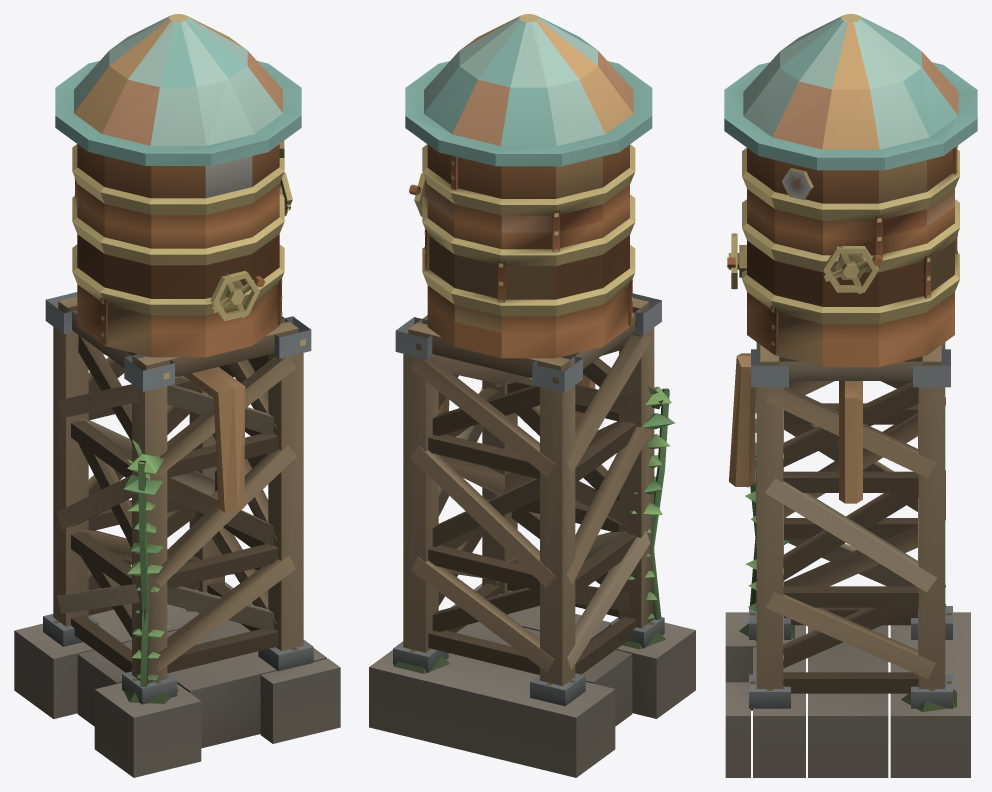
File: water.glb
The picture shows the model from 3 angles, left to right: view 1: azimuth 30°, elevation 25°; view 2: azimuth 150°, elevation 25°; view 3: azimuth 270°, elevation 25°; orthographic projection. The views are drawn at different scales.
Parts seen in each view (by area): view 1: water; view 2: water; view 3: water.
Boxes of the visible parts, bbox=[...] form: water: bbox=[14, 14, 340, 777]; water: bbox=[369, 14, 695, 777]; water: bbox=[724, 14, 977, 777].
Bounding box in the file's own units: 4.6 × 14.22 × 4.6.
